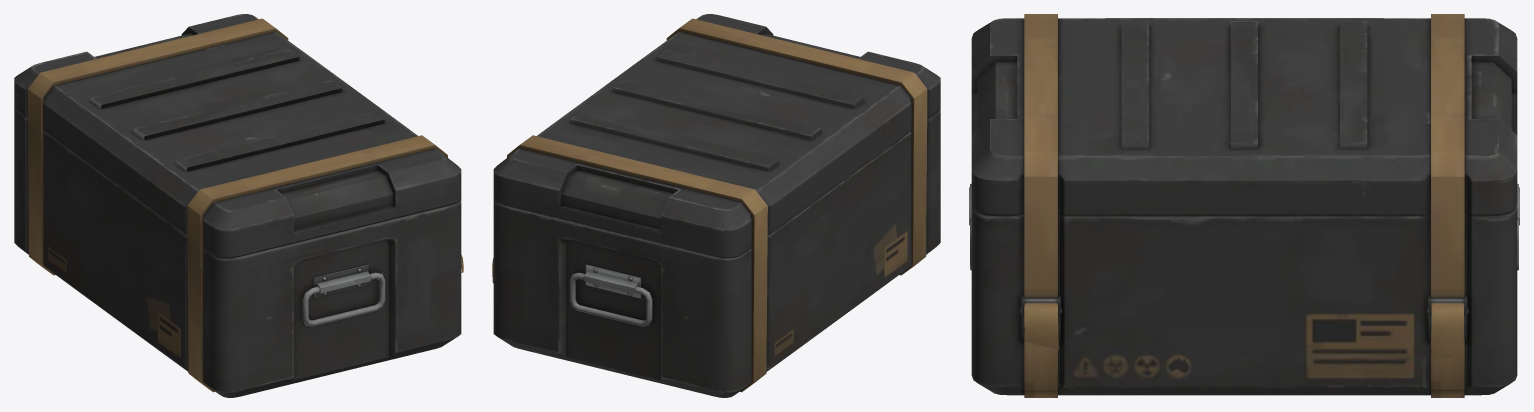
3 views of the same model, side by side, from view 1: azimuth 30°, elevation 25°; view 2: azimuth 150°, elevation 25°; view 3: azimuth 270°, elevation 25° (orthographic). The views are drawn at different scales.
Parts seen in each view (by area): view 1: body0_model0_lod0_mesh0; view 2: body0_model0_lod0_mesh0; view 3: body0_model0_lod0_mesh0.
Boxes of the visible parts, bbox=[...] form: body0_model0_lod0_mesh0: bbox=[14, 14, 463, 397]; body0_model0_lod0_mesh0: bbox=[492, 14, 940, 397]; body0_model0_lod0_mesh0: bbox=[969, 14, 1519, 397].
Bounding box in the file's own units: 85.29 × 59.9 × 121.
Materials: 1 (1 with a texture image).
